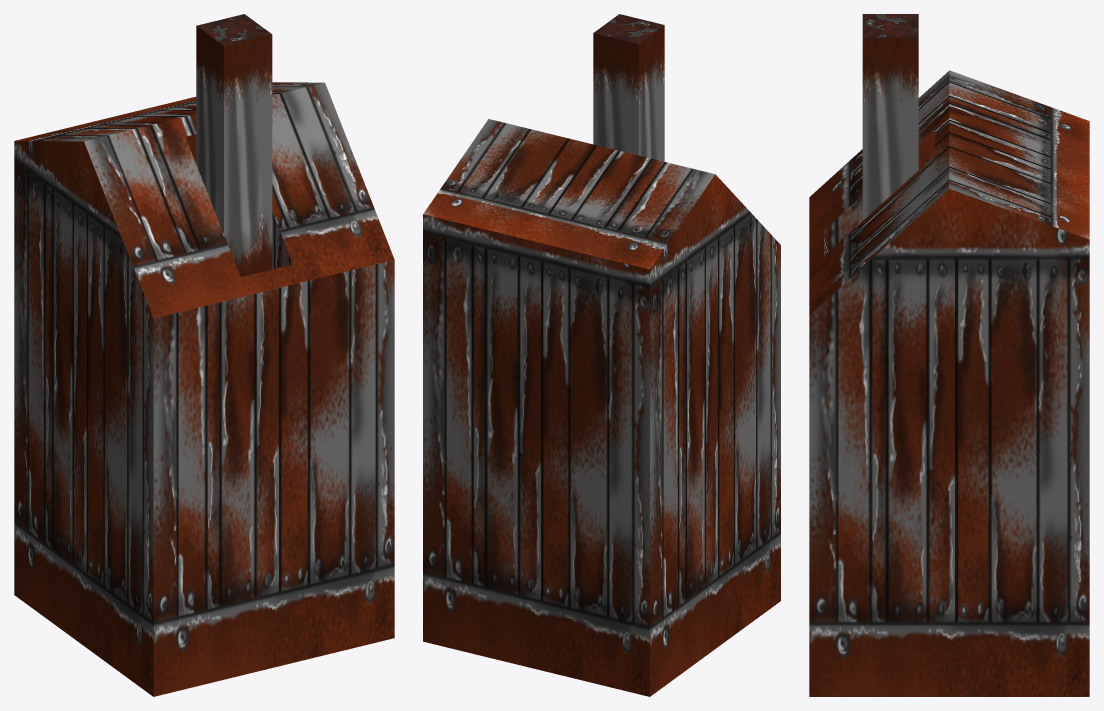
File: Lever90_30.FBX
3 renders of one model, left to right at view 1: azimuth 30°, elevation 25°; view 2: azimuth 150°, elevation 25°; view 3: azimuth 270°, elevation 25°, orthographic. The views are drawn at different scales.
Parts seen in each view (by area): view 1: Box01, Box02; view 2: Box01, Box02; view 3: Box01, Box02.
Boxes of the visible parts, bbox=[...] form: Box01: bbox=[14, 82, 394, 696]; Box02: bbox=[196, 14, 272, 276]; Box01: bbox=[423, 119, 780, 696]; Box02: bbox=[593, 14, 664, 161]; Box01: bbox=[809, 70, 1089, 696]; Box02: bbox=[862, 14, 918, 220].
Bounding box in the file's own units: 50 × 120 × 50.
3 materials, 3 textured.
